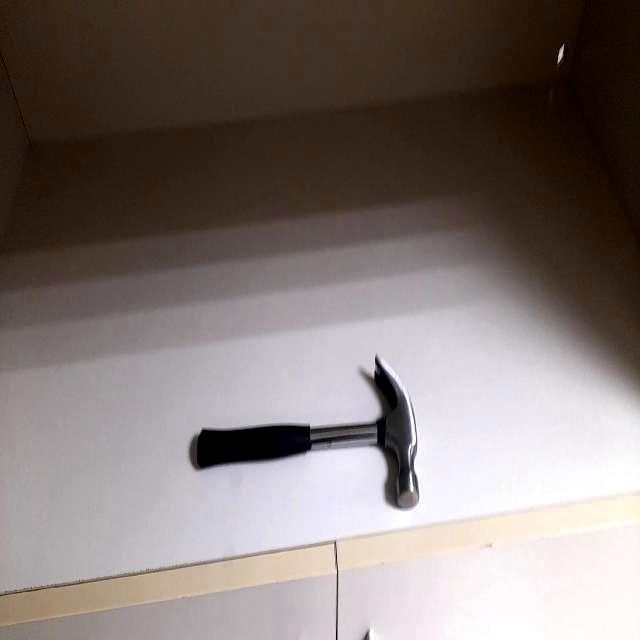hammer: (200, 352, 420, 512)
